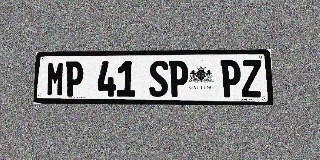1: (116, 61, 136, 97)
4: (97, 61, 116, 97)
M: (46, 61, 65, 96)
P: (220, 60, 241, 97), (169, 60, 188, 97), (65, 61, 84, 96)
S: (149, 60, 168, 97)
Z: (241, 60, 262, 97)
